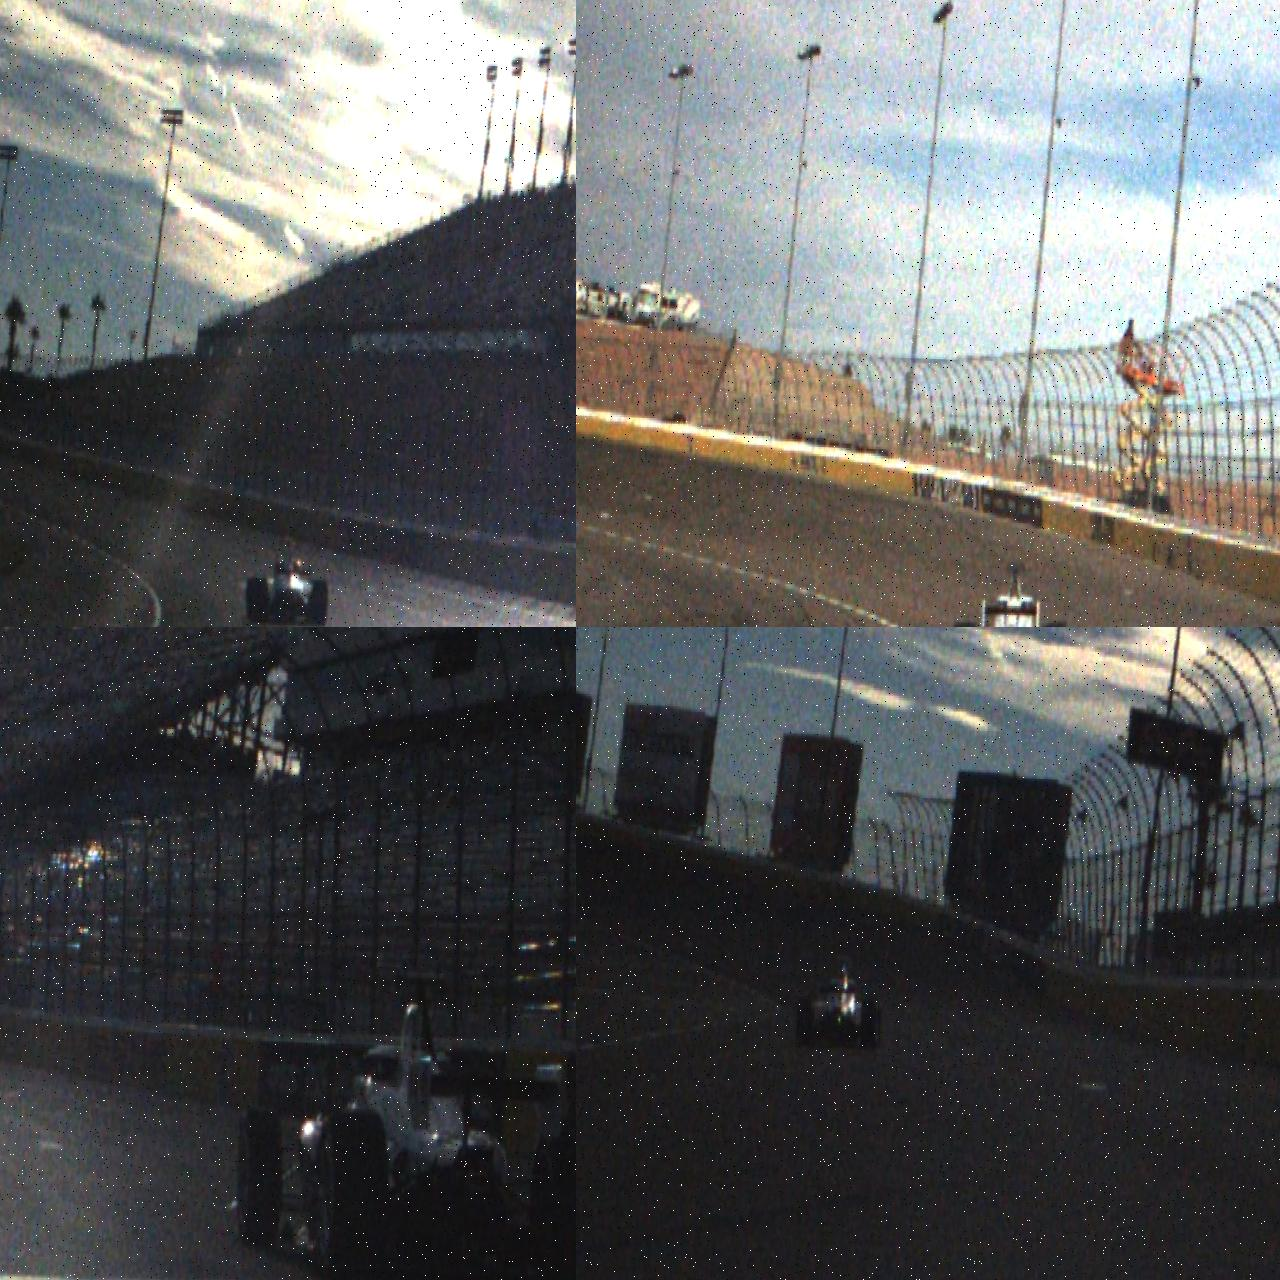AV: (224, 960, 576, 1280), (795, 953, 885, 1055), (245, 535, 331, 627), (951, 561, 1070, 627)
Wheel: (313, 1108, 388, 1280), (527, 1110, 576, 1280), (236, 1108, 282, 1246), (248, 577, 270, 624), (795, 996, 812, 1051), (860, 1000, 878, 1054), (309, 580, 328, 627)
